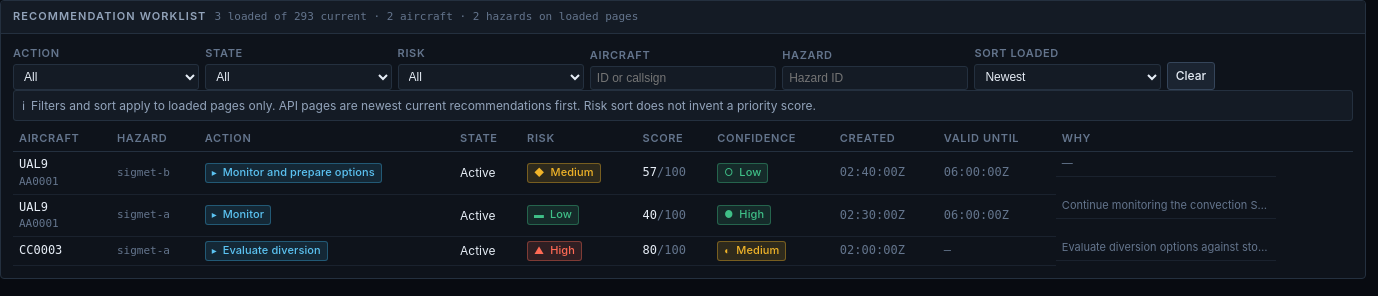
RecommendationWorklist › filters loaded pages only
Expected: the text "CC0003" is shown, [19,243,62,257]
Select "Monitor" in the dropdown labelled "Action" at coordinates (106, 77), box [13,64,199,90]
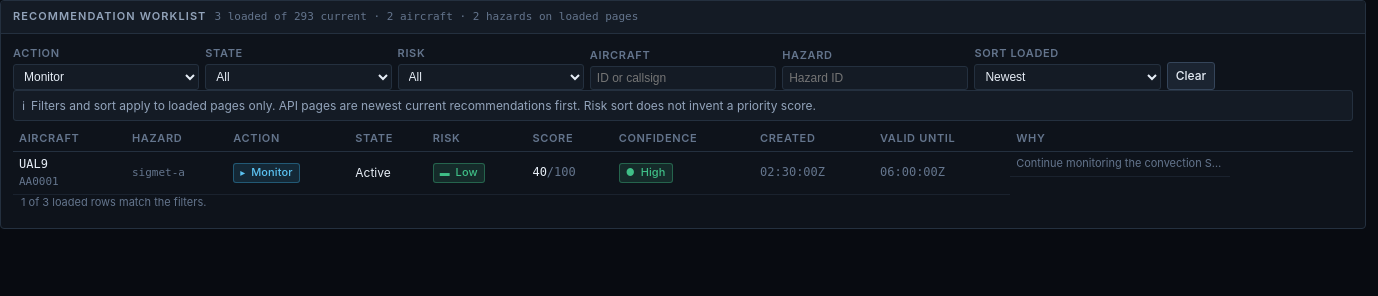
Expected: the text "UAL9" is shown, [19,157,48,171]
Result: the text "CC0003" is gone
Result: the text "1 of 3 loaded rows match the filters." is shown at [21,194,206,208]
